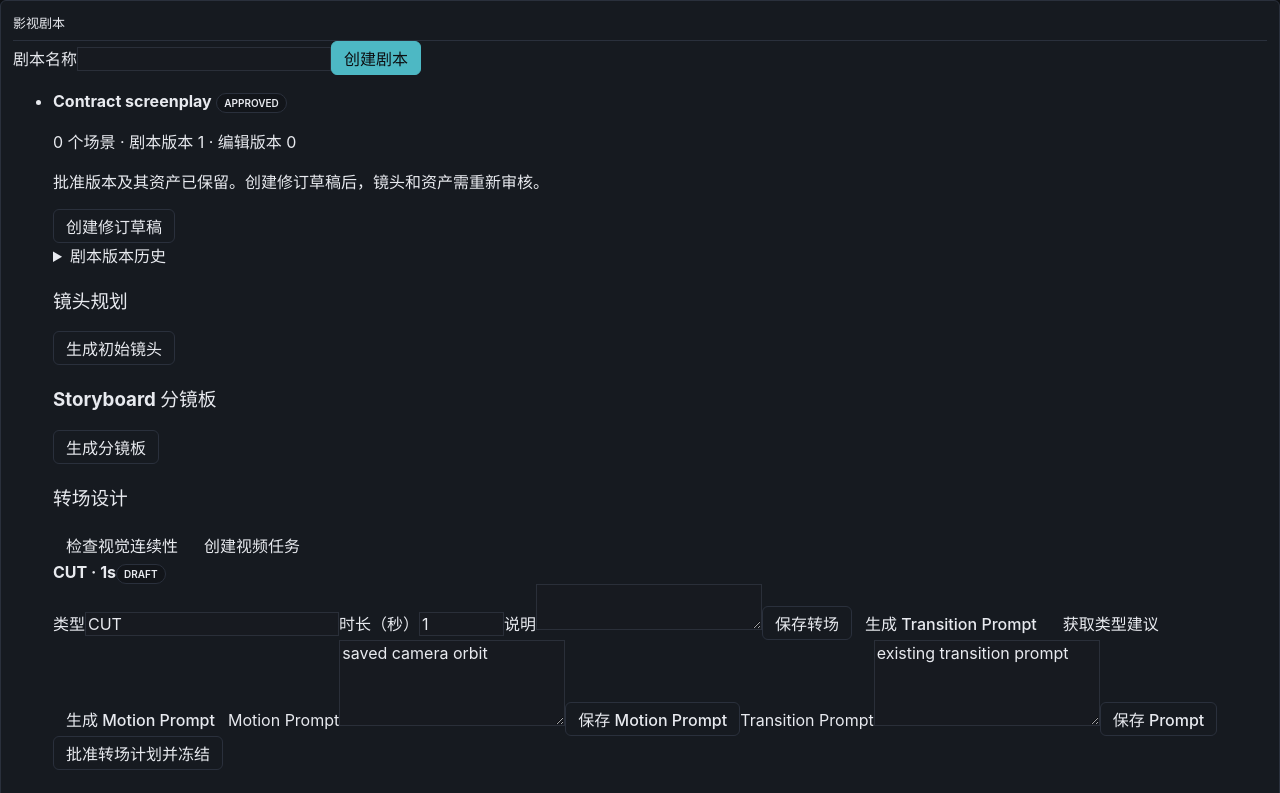
it: ScreenplayPanel Motion Prompt contract › reports generation rejection safely, preserves the edit, and clears only its own error on retry
Replace the text in the text box labelled "Motion Prompt" with "keep this edit". click: (452, 683)
box: [339,640,565,726]
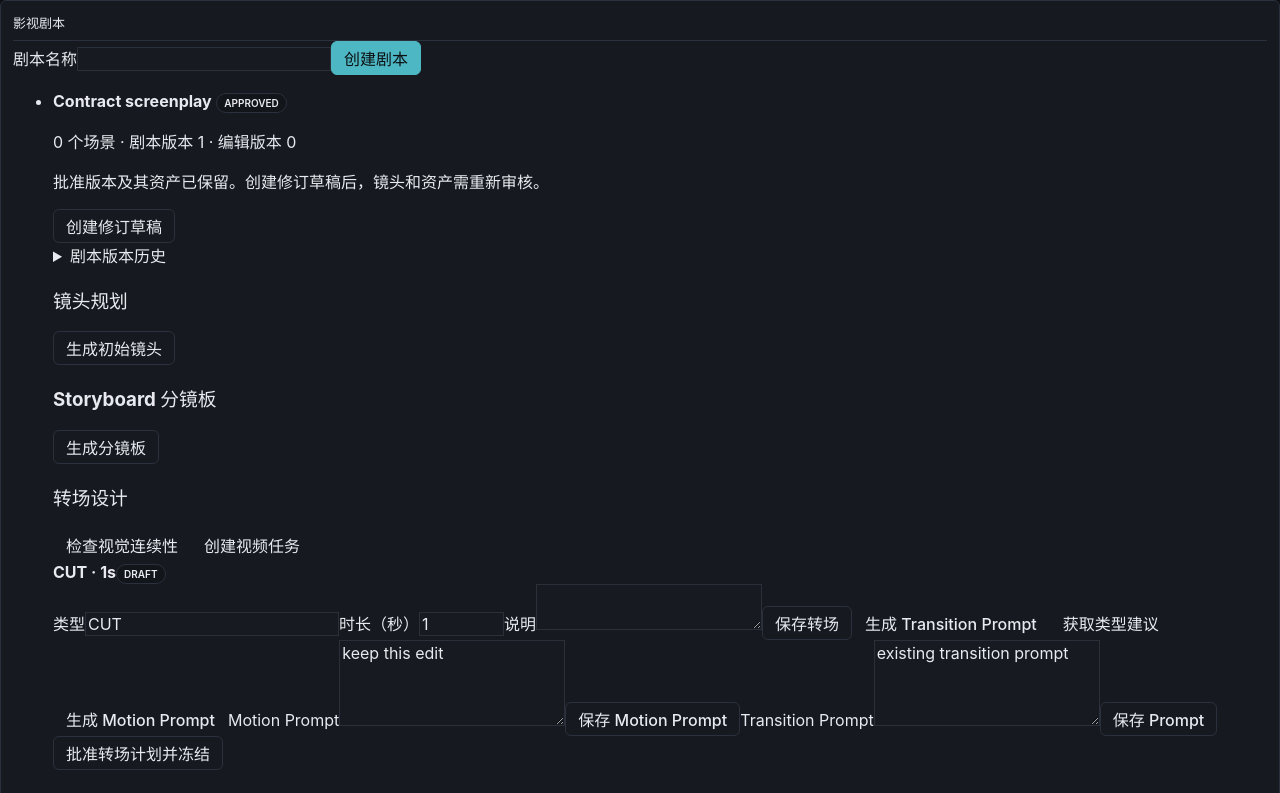
Click the button "生成 Motion Prompt". click: (140, 719)
box: [53,702,228,736]
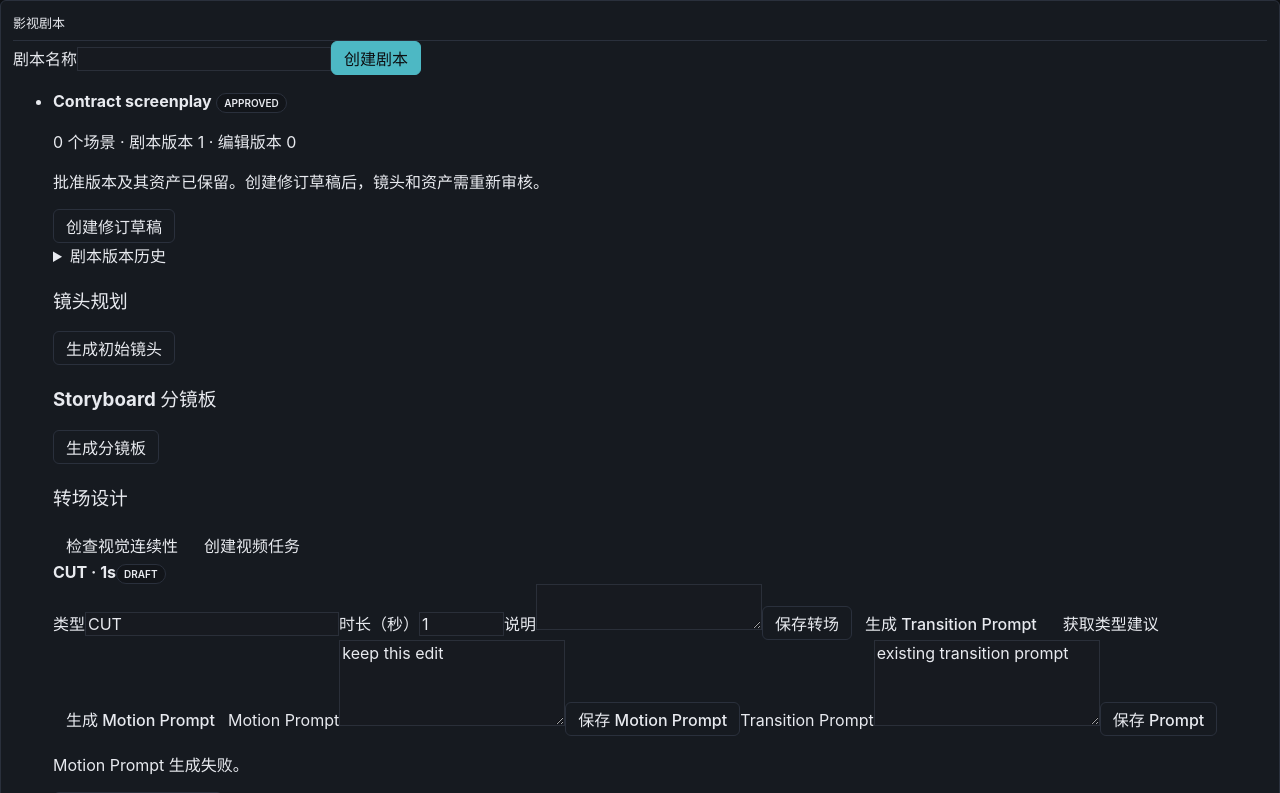
Check: the text "Motion Prompt 生成失败。" is shown, box [53,755,249,775]
Click the button "生成 Motion Prompt". click: (140, 719)
box: [53,702,228,736]
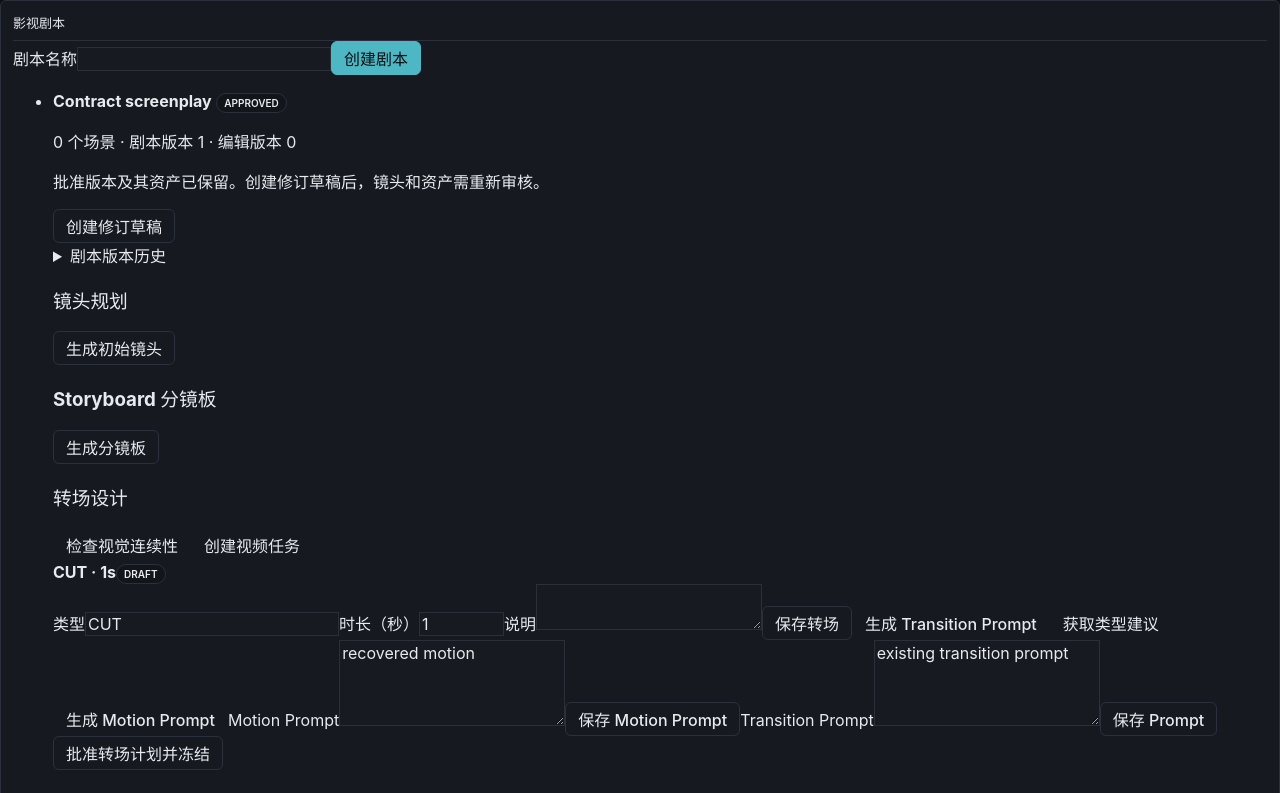
Check: the text box showing "recovered motion" is shown, box [339,640,565,726]
Check: the text "Motion Prompt 生成失败。" is gone
